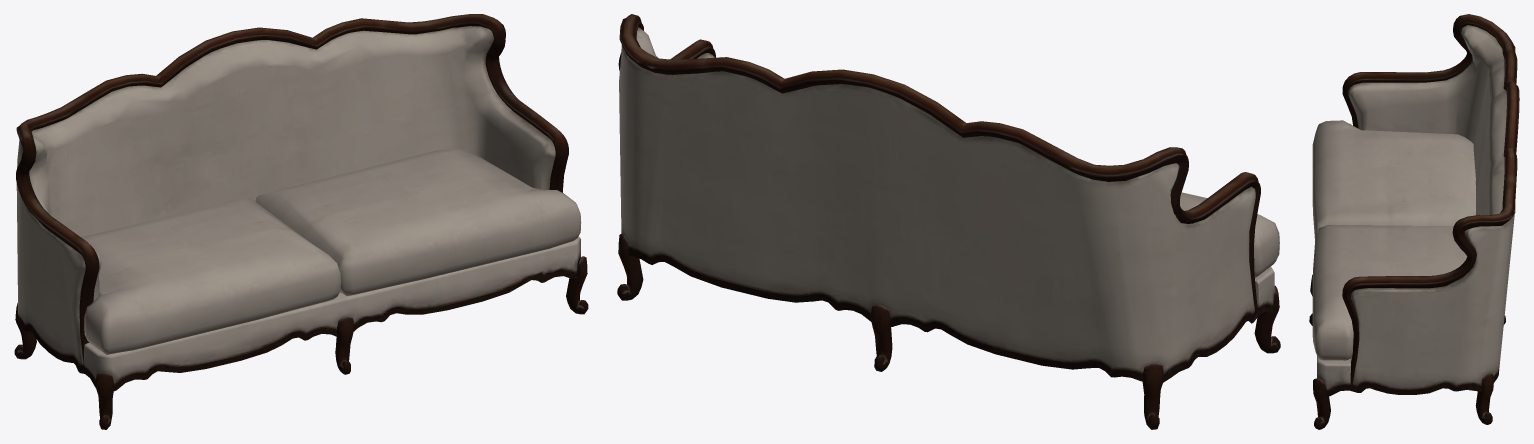
File: Sofa_01.glb
3 renders of one model, left to right at view 1: azimuth 30°, elevation 25°; view 2: azimuth 150°, elevation 25°; view 3: azimuth 270°, elevation 25°, orthographic. The views are drawn at different scales.
Visible parts, largest first — view 1: Sofa_01; view 2: Sofa_01; view 3: Sofa_01.
Part boxes in pixels (bbox=[...]): Sofa_01: bbox=[14, 14, 588, 429]; Sofa_01: bbox=[617, 14, 1280, 429]; Sofa_01: bbox=[1309, 14, 1519, 429].
Bounding box in the file's own units: 1.57 × 0.7966 × 0.658.
1 material, 1 textured.
